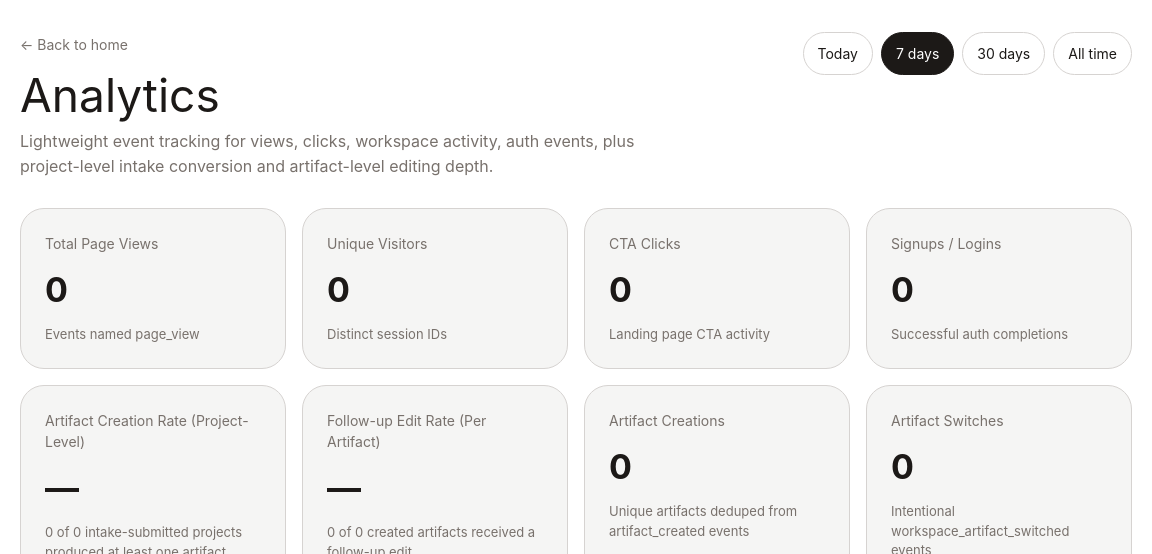
Test: AnalyticsPage › supports range changes, renders page-view charts, and shows the unconfigured empty state
Click the button "Today": coordinates (838, 54) [802,32,873,75]
(page scrolled)
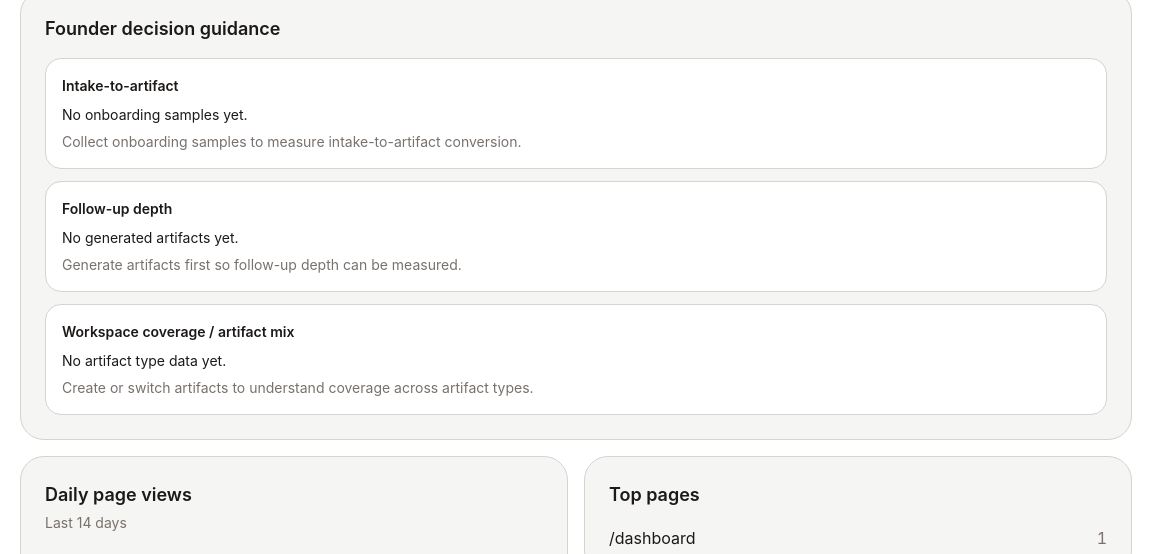
Expected: the text "Top pages" is shown, [609,484,700,505]
Expected: the text "/dashboard" is shown, [609,526,696,550]
